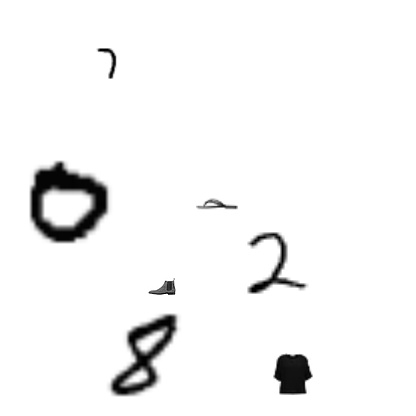0: (11, 142, 123, 254)
1: (99, 317, 113, 331)
2: (230, 224, 314, 308)
7: (89, 38, 131, 80)
8: (88, 299, 200, 411)
Ankle_boot: (148, 272, 176, 300)
Sandal: (196, 182, 238, 224)
Shirt: (272, 353, 314, 395)
